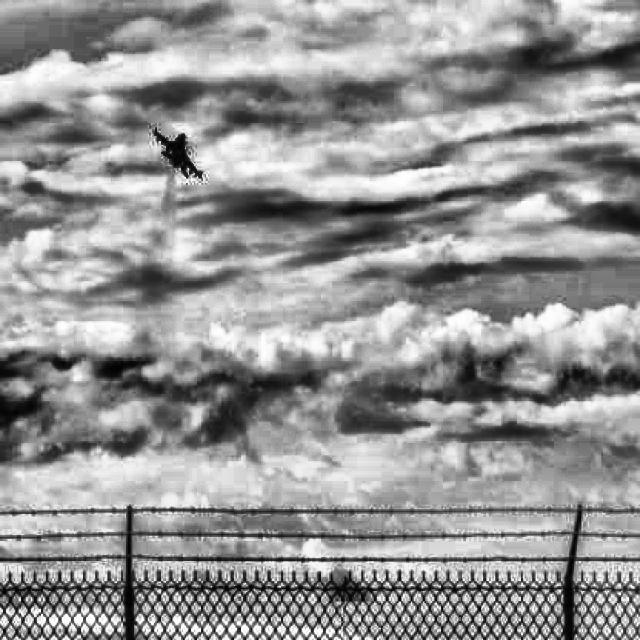F16: (154, 127, 203, 179)
